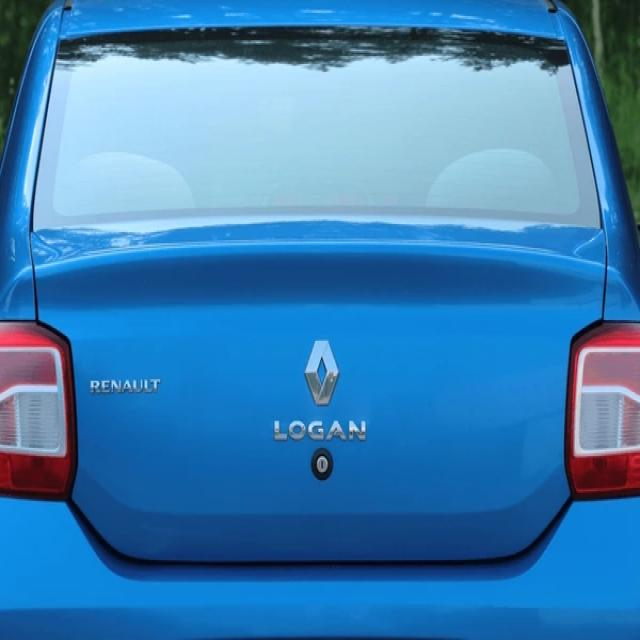renault: (305, 338, 339, 406)
